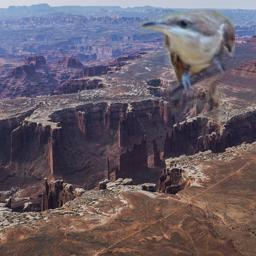Cuckoo: (140, 10, 235, 140)
